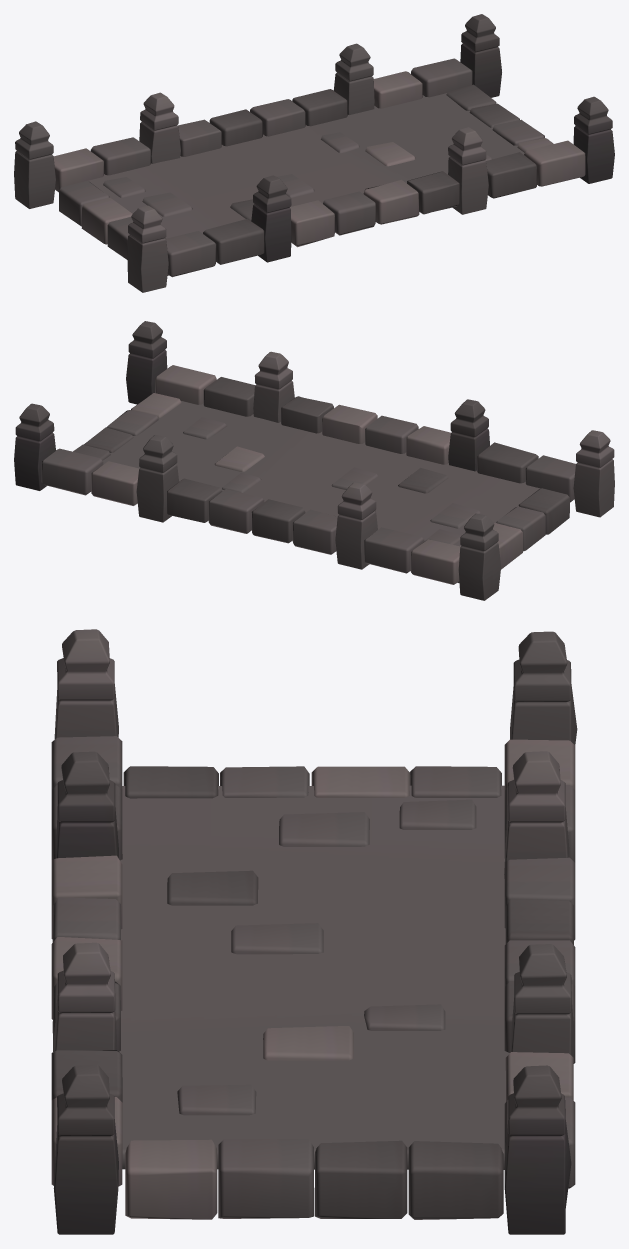
The model's file is bridge-stone.glb.
The picture shows the model from 3 angles, top to bottom: view 1: azimuth 30°, elevation 25°; view 2: azimuth 150°, elevation 25°; view 3: azimuth 270°, elevation 25°; orthographic projection. The views are drawn at different scales.
Parts seen in each view (by area): view 1: Bridge.01; view 2: Bridge.01; view 3: Bridge.01.
Part boxes in pixels (box(x1,y1,x2,y2)): Bridge.01: box(14, 14, 614, 292); Bridge.01: box(14, 321, 614, 600); Bridge.01: box(51, 629, 577, 1234).
Size of the model in its own units: 4.49 by 0.7551 by 2.16.
1 material, 1 textured.
